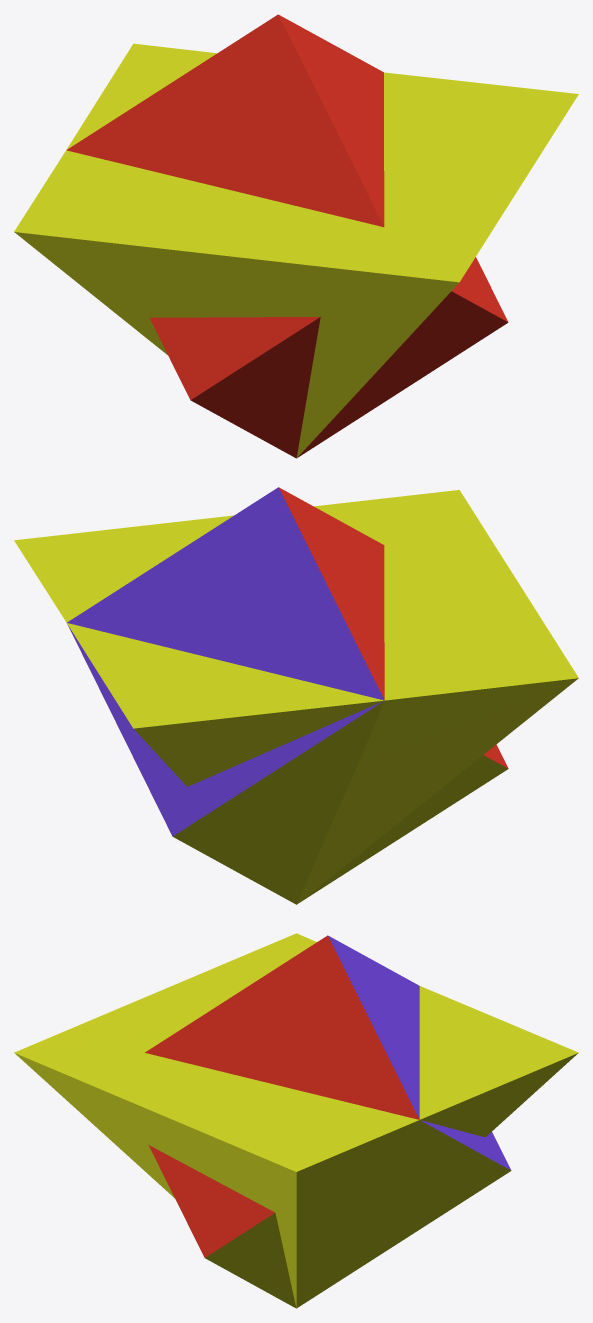
File: player.obj
The picture shows the model from 3 angles, top to bottom: view 1: azimuth 30°, elevation 25°; view 2: azimuth 150°, elevation 25°; view 3: azimuth 270°, elevation 25°; orthographic projection. The views are drawn at different scales.
Visible parts, largest first — view 1: 立方体; view 2: 立方体; view 3: 立方体.
Part boxes in pixels (x1=…): 立方体: x1=14, y1=14, x2=578, y2=458; 立方体: x1=14, y1=487, x2=578, y2=904; 立方体: x1=14, y1=933, x2=578, y2=1308.
Bounding box in the file's own units: 2.12 × 1.55 × 2.12.
Materials: 1 (1 with a texture image).
